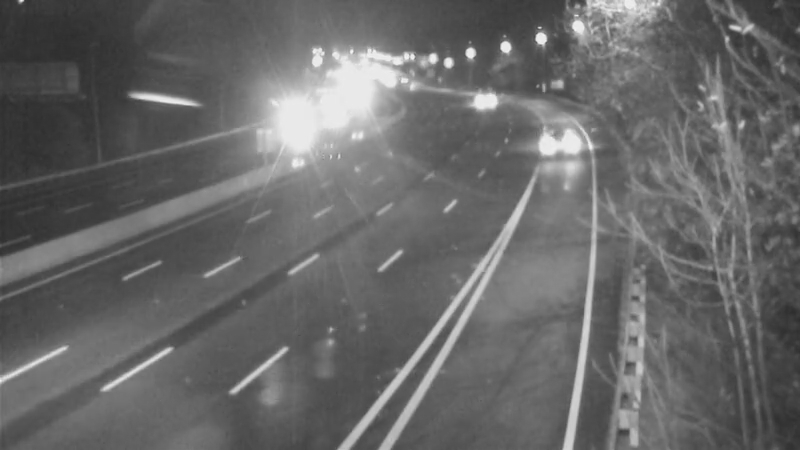vehicle: (457, 77, 507, 127), (526, 118, 576, 168), (268, 90, 318, 140)
